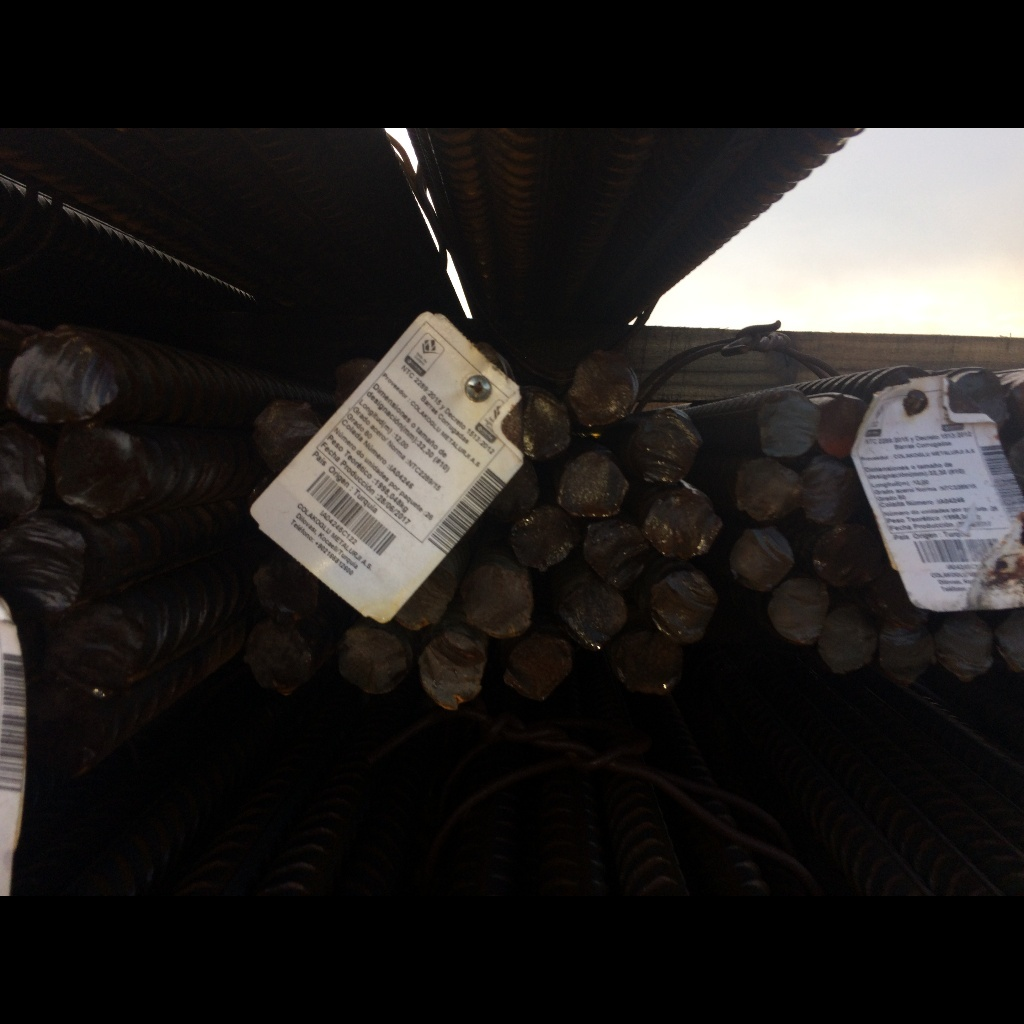dipstick: (9, 338, 118, 424), (56, 428, 142, 515), (6, 522, 85, 608), (30, 689, 106, 777), (56, 610, 134, 688), (419, 637, 485, 710), (648, 491, 721, 557), (463, 566, 530, 636), (571, 352, 634, 425), (247, 623, 313, 691), (651, 572, 716, 641), (633, 412, 696, 483), (557, 457, 630, 516), (502, 639, 569, 702), (256, 398, 318, 466), (338, 627, 406, 688), (816, 526, 882, 588), (1, 432, 47, 519), (736, 460, 801, 521), (585, 519, 645, 583), (730, 529, 792, 590), (760, 397, 820, 459), (616, 636, 682, 692), (800, 464, 859, 524), (255, 563, 319, 618), (821, 607, 875, 672), (771, 580, 826, 642), (878, 620, 932, 681), (943, 616, 994, 680), (401, 570, 454, 630), (568, 592, 625, 647), (514, 512, 568, 570), (954, 368, 1008, 425), (821, 395, 865, 457), (523, 392, 566, 453), (490, 466, 535, 519), (997, 614, 1024, 672)
